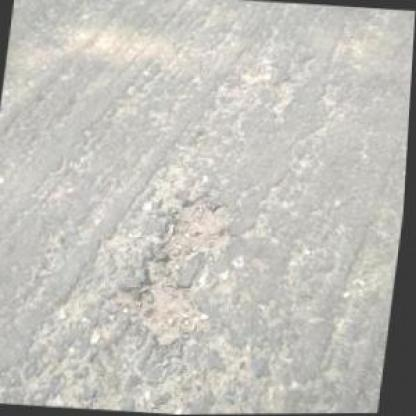pothole: (122, 195, 234, 350)
